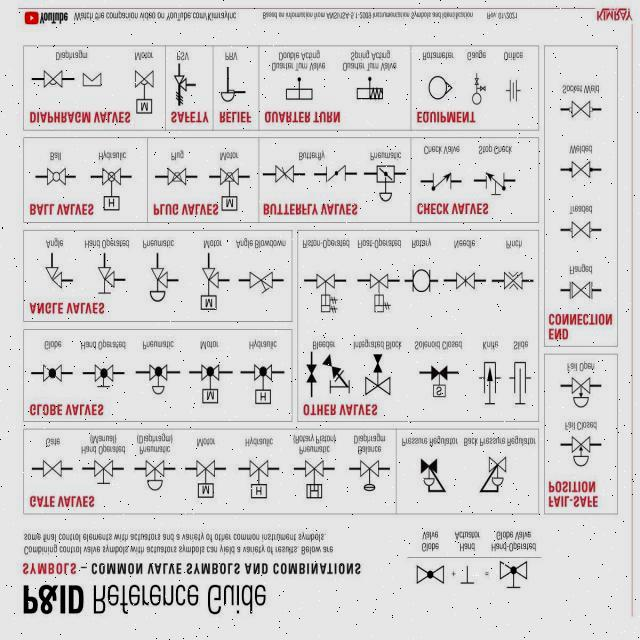Angle Blowdown: (242, 262, 279, 298)
Angle Valve: (41, 260, 67, 292)
BackPressure Regulator: (468, 450, 518, 498)
Balance Diaphragm Gate Valve: (354, 456, 386, 496)
Ball Valve: (42, 165, 68, 193)
Bleeder Valve: (321, 353, 354, 395), (302, 362, 318, 392)
Butterfly Valve: (316, 163, 350, 190), (272, 164, 298, 188)
Check Valve: (424, 170, 456, 196)
Diaphragm Valve: (41, 66, 68, 90), (78, 72, 102, 88)
Fail Closed Safe Position: (562, 432, 596, 471)
Fail Open Safe Position: (565, 373, 595, 411)
Flanged: (564, 278, 600, 303)
Float Operated Valve: (358, 268, 396, 318)
Gate Valve: (36, 458, 64, 482)
Gauge: (467, 70, 488, 112)
Globe Valve: (412, 562, 448, 588), (38, 362, 64, 389)
Hand Operated Angle Valve: (88, 260, 121, 300)
Hand Operated Gate Valve: (85, 456, 116, 492)
Hand Operated Globe Valve: (492, 560, 534, 596), (89, 362, 116, 392)
Hydraulic Operated Ball Valve: (98, 163, 124, 216)
Hydraulic Operated Gate Valve: (245, 458, 272, 500)
Hydraulic Operated Globe Valve: (250, 360, 274, 409)
Integrated Block Valve: (360, 350, 397, 399)
Knife Valve: (470, 359, 504, 413)
Motor Operated Angle Valve: (192, 264, 222, 314)
Motor Operated Diaphragm Valve: (132, 66, 158, 121)
Motor Operated Gate Valve: (190, 455, 220, 508)
Motor Operated Globe Valve: (193, 361, 224, 409)
Motor Operated Plug Valve: (218, 164, 244, 214)
Needle Valve: (452, 266, 478, 296)
Orifice: (500, 78, 524, 109)
PRV: (219, 63, 250, 105)
PSV: (171, 64, 199, 110)
Pinch Valve: (498, 265, 528, 295)
Piston Operated Valve: (306, 267, 343, 318)
Plug Valve: (162, 165, 192, 192)
Pneumatic-Diaphragm Angle Valve: (140, 256, 172, 307)
Pneumatic-Diaphragm Butterfly Valve: (366, 163, 403, 208)
Pneumatic-Diaphragm Gate Valve: (134, 458, 172, 496)
Pneumatic-Diaphragm Globe Valve: (144, 362, 171, 397)
Pressure Regulator: (410, 455, 452, 498)
Quarter Turn Valve Double Acting: (274, 73, 322, 104)
Quarter Turn Valve Spring Acting: (347, 75, 389, 106)
Rotameter: (424, 68, 454, 102)
Rotary Piston-Pneumatic Gate Valve: (299, 456, 328, 504)
Rotary Valve: (404, 266, 436, 304)
Slide Valve: (503, 358, 533, 416)
Socket Weld: (559, 98, 599, 122)
Solenoid Closed Valve: (410, 358, 462, 407)
Stop Valve: (478, 167, 513, 200)
Treaded: (566, 218, 594, 244)
Welded: (564, 157, 598, 182)
